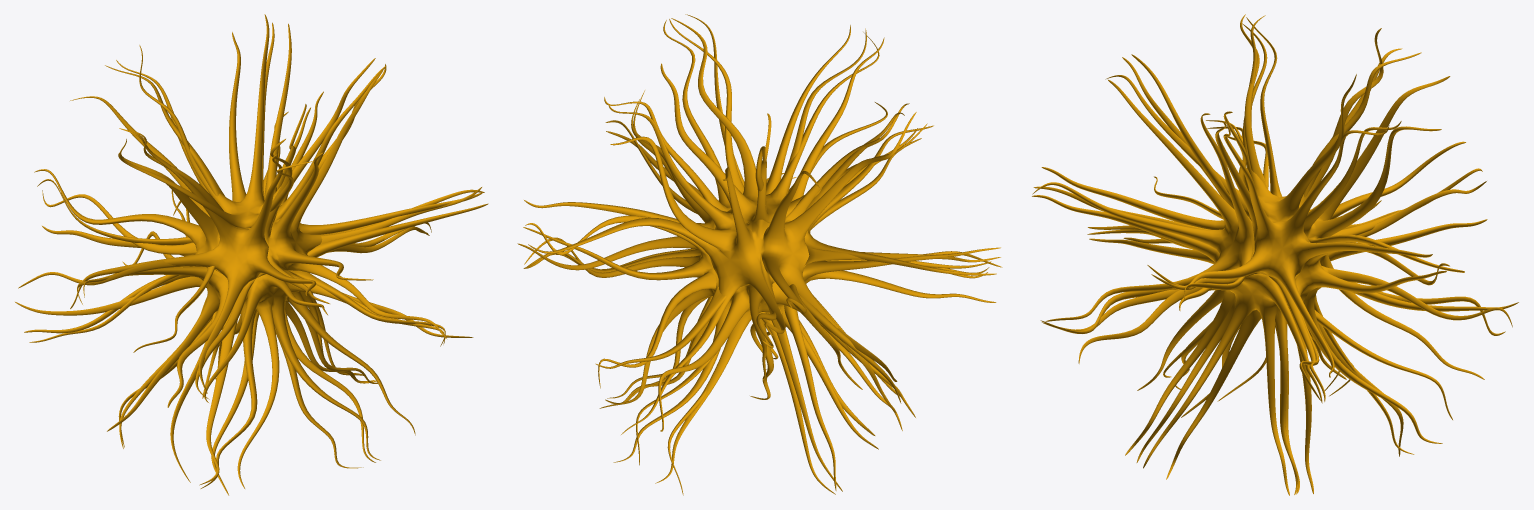
File: tentacles4.fbx
3 views of the same model, side by side, from view 1: azimuth 30°, elevation 25°; view 2: azimuth 150°, elevation 25°; view 3: azimuth 270°, elevation 25° (orthographic). The views are drawn at different scales.
Visible parts, largest first — view 1: organic_09_quads_:Mesh; view 2: organic_09_quads_:Mesh; view 3: organic_09_quads_:Mesh.
Boxes of the visible parts, x1,y1,x2,y2 form: organic_09_quads_:Mesh: (15,14,488,495); organic_09_quads_:Mesh: (517,14,1002,495); organic_09_quads_:Mesh: (1032,14,1518,495).
Bounding box in the file's own units: 32.77 × 29.85 × 32.57.
